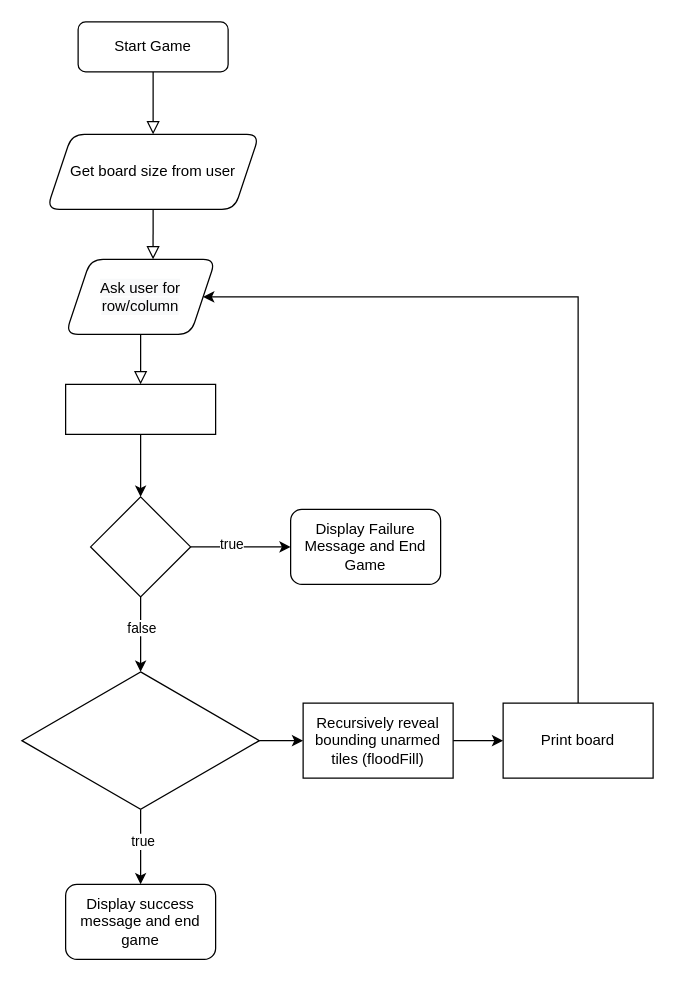
This 675x981 diagram has some shape labels left out. Each missing label, with the centre of its shape:
Check for bomb at chosen cell: [140,408]
Check if all bombs have been revealed: [140,740]
If user landed on bomb: [140,546]
